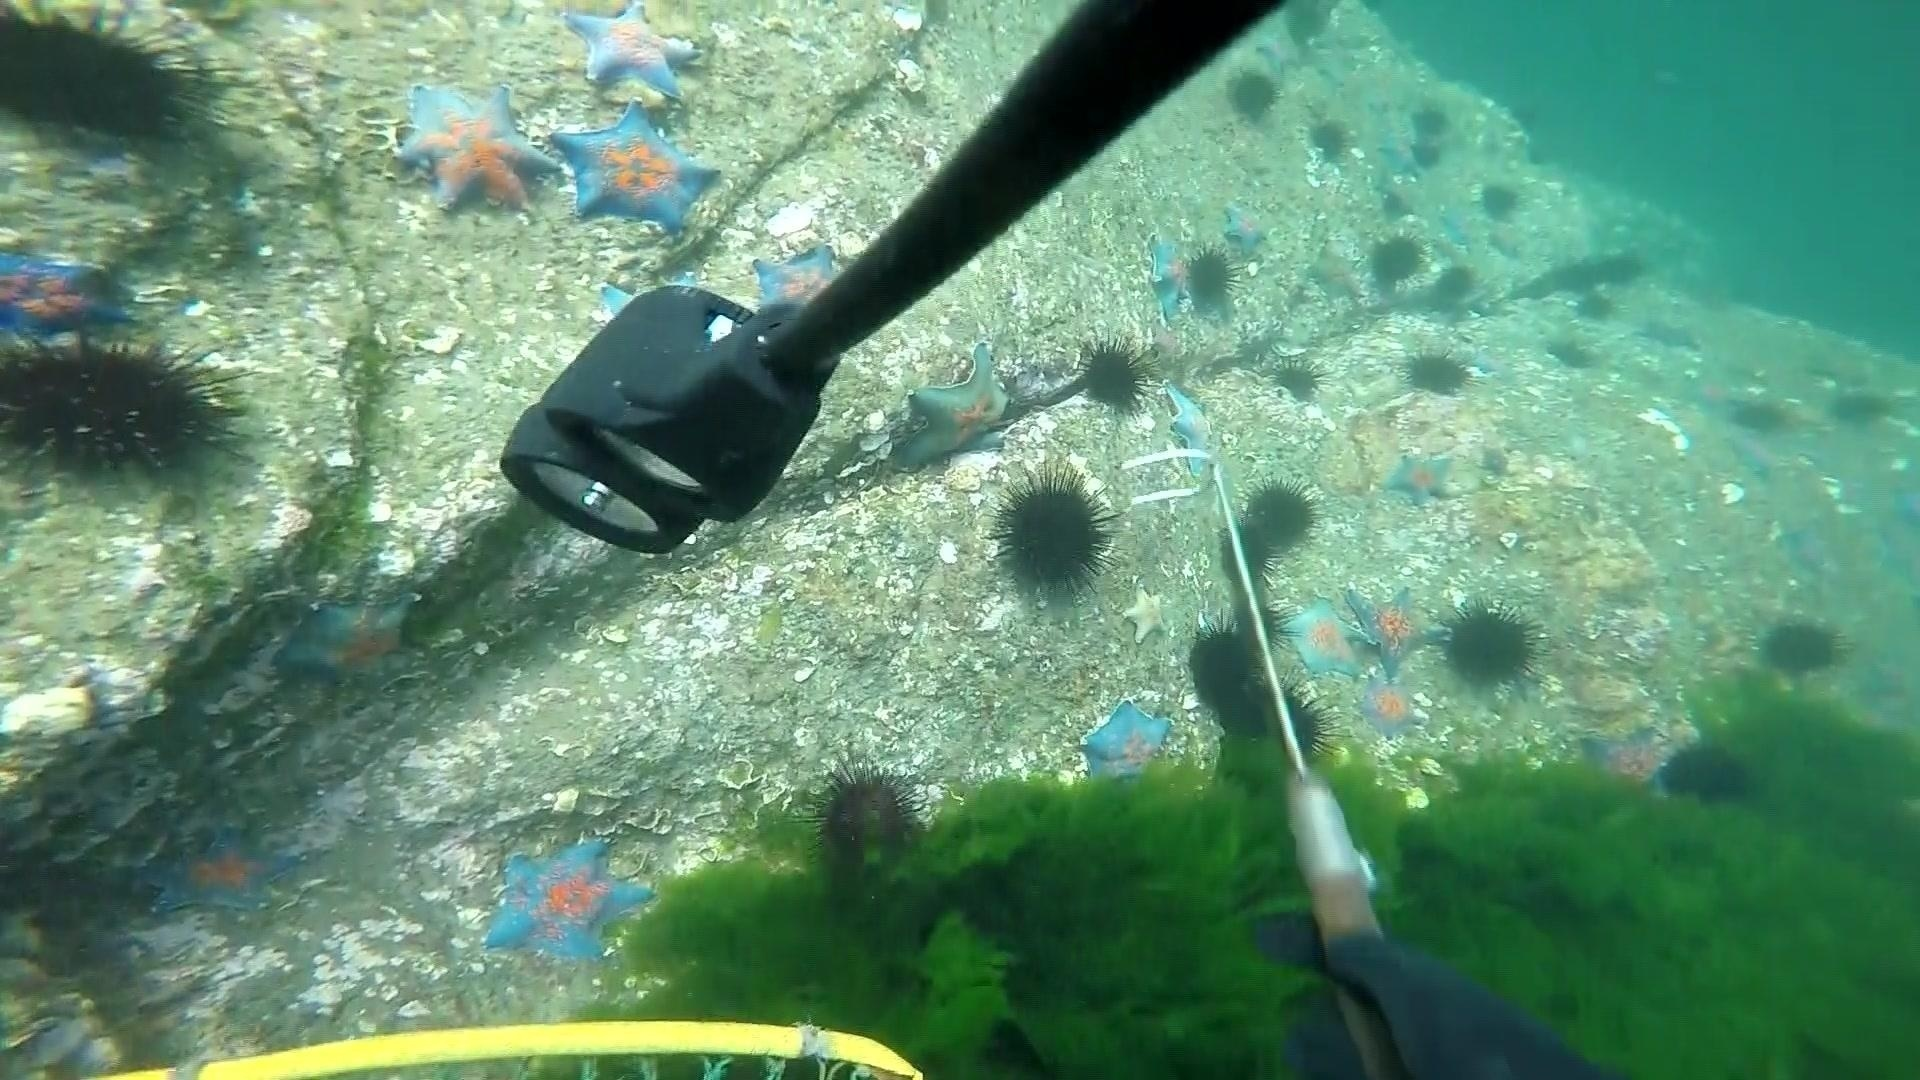echinus: (3, 334, 245, 491), (1, 7, 214, 152), (986, 467, 1118, 603), (810, 761, 927, 873), (1435, 597, 1544, 694), (1233, 476, 1323, 562), (1659, 738, 1760, 812), (1071, 338, 1154, 417), (1756, 613, 1847, 680), (1247, 686, 1331, 758), (1191, 624, 1259, 688), (1399, 344, 1476, 400), (1182, 243, 1240, 315), (1364, 229, 1429, 291), (1221, 65, 1284, 127), (1825, 382, 1894, 434), (1275, 1, 1338, 50), (1269, 352, 1327, 405), (1726, 392, 1792, 438), (1302, 113, 1357, 167), (1429, 261, 1482, 313), (1474, 175, 1526, 225), (1540, 328, 1597, 371), (1568, 281, 1622, 324), (1404, 99, 1451, 138), (1412, 142, 1444, 171)
holothurian: (898, 905, 1025, 1073)
starfish: (389, 75, 558, 223), (480, 831, 654, 973), (547, 104, 720, 236), (273, 587, 429, 700), (145, 822, 309, 924), (895, 342, 1021, 473), (1, 243, 138, 353), (560, 3, 705, 105), (745, 237, 855, 330), (1341, 579, 1444, 676), (1572, 720, 1679, 810), (1076, 694, 1180, 783), (596, 268, 705, 351), (1276, 591, 1375, 682), (1159, 378, 1222, 480), (1139, 227, 1197, 319), (1352, 676, 1429, 742), (1379, 444, 1460, 508), (1677, 364, 1754, 418), (1117, 583, 1178, 647), (1302, 244, 1365, 305), (1218, 199, 1273, 258), (1631, 313, 1702, 353), (1785, 526, 1832, 582), (1730, 434, 1780, 483), (1371, 142, 1408, 186), (1440, 214, 1476, 256)
